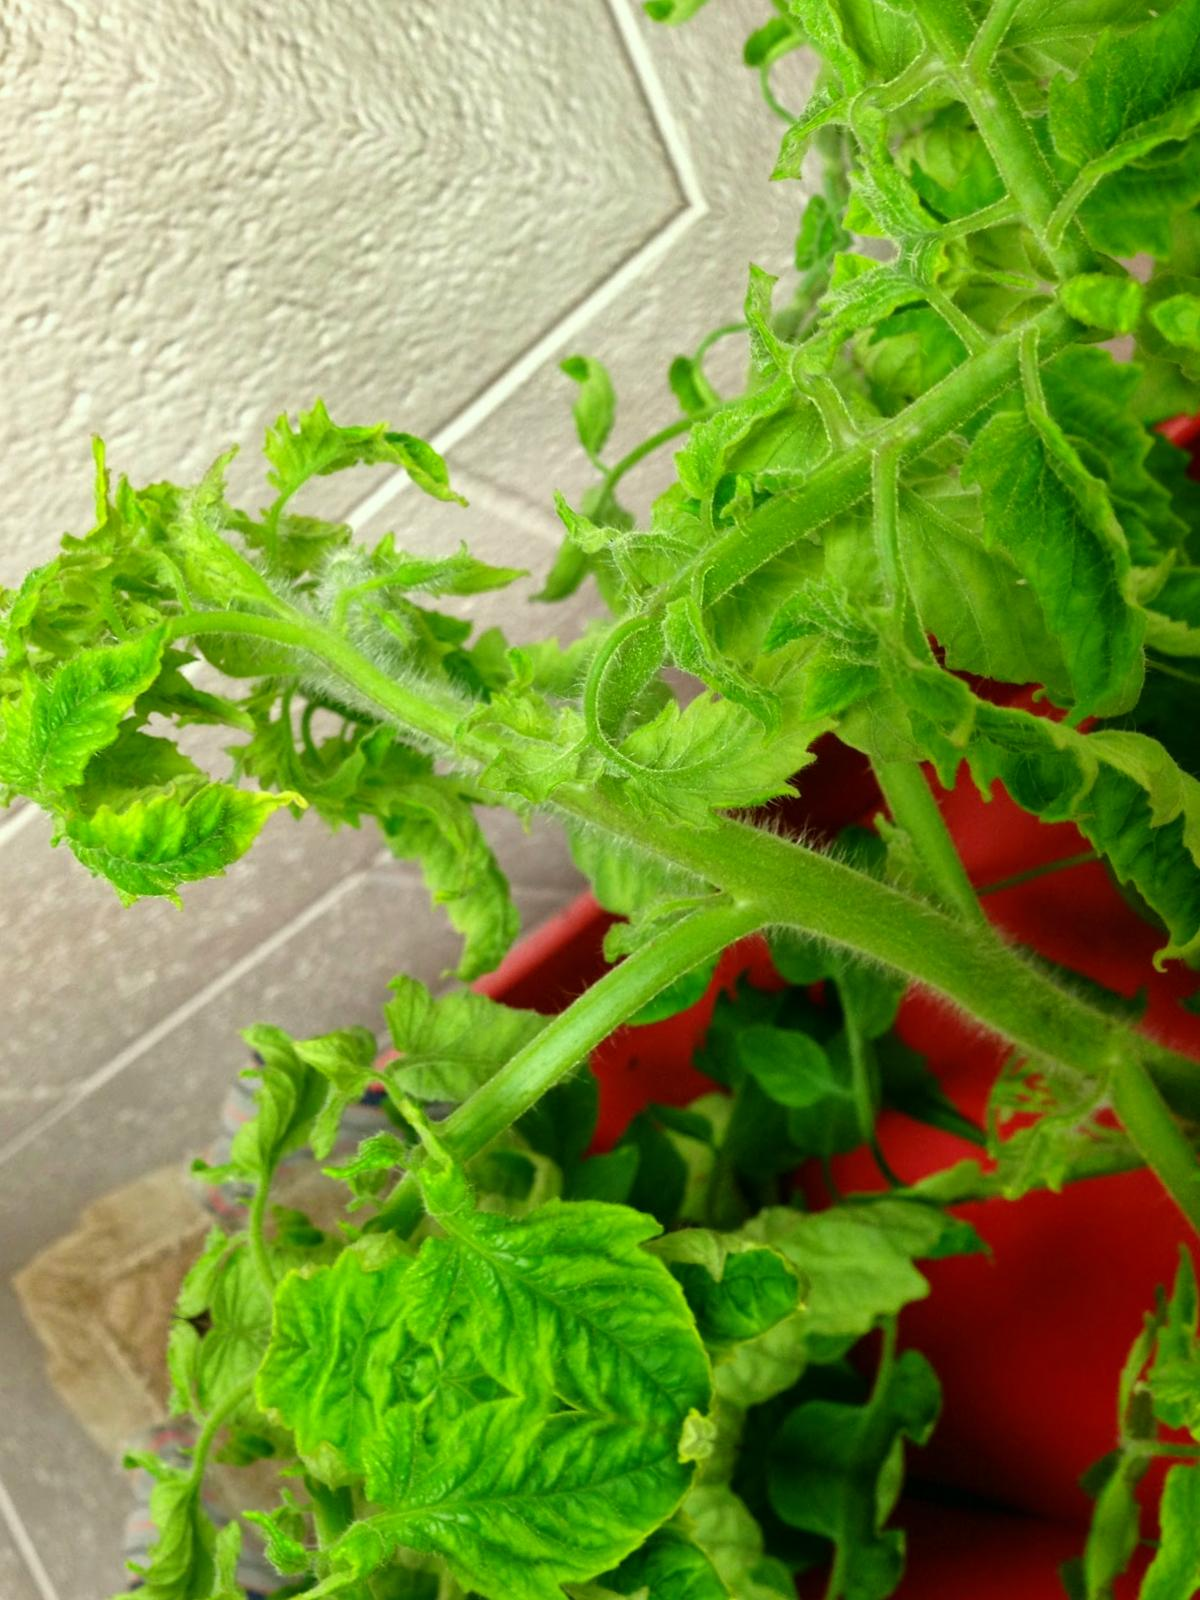Tomato leaf yellow virus: (352, 1127, 763, 1440), (826, 642, 1200, 979), (907, 358, 1200, 724), (46, 716, 349, 954), (580, 610, 847, 851), (0, 569, 207, 819)
